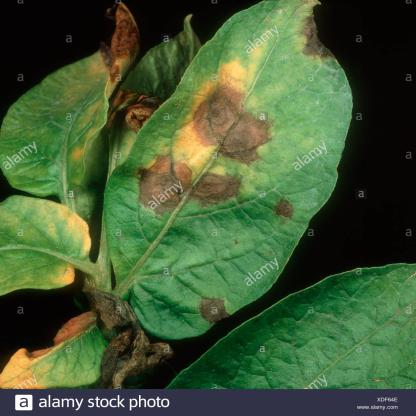Potato leaf early blight: (101, 0, 358, 346), (2, 0, 145, 201), (96, 13, 211, 189), (78, 282, 174, 388)
